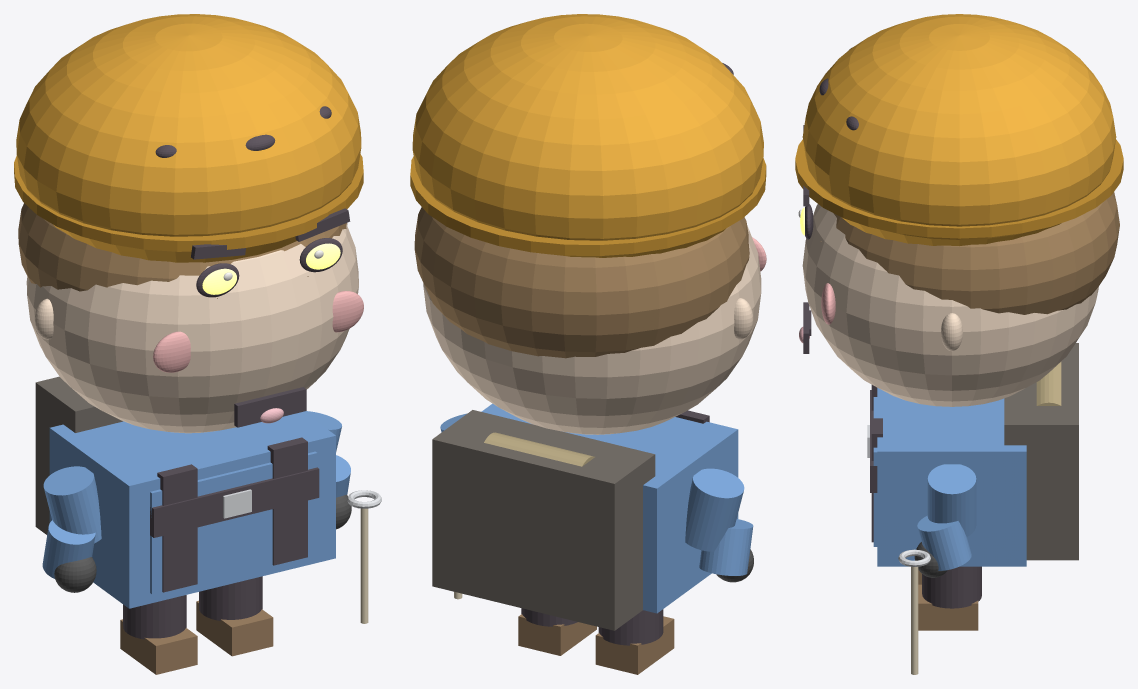
File: climber.glb
3 views of the same model, side by side, from view 1: azimuth 30°, elevation 25°; view 2: azimuth 150°, elevation 25°; view 3: azimuth 270°, elevation 25° (orthographic). The views are drawn at different scales.
Visible parts, largest first — view 1: Helmet, Head, Coat, HairCap, CoatFront, HelmetRim, ChestStrap, Backpack, PackStrap_L, PackStrap_R, UpperArm_L, Shoe_R (+15 smaller); view 2: Helmet, Backpack, HairCap, Head, Coat, HelmetRim, UpperArm_L, Shoe_L, Forearm_L, Shoe_R, Leg_L, Bedroll (+2 smaller); view 3: Helmet, Head, Coat, HairCap, Backpack, HelmetRim, UpperArm_R, Leg_R, Forearm_R, Shoe_R, Bedroll, Rope (+3 smaller).
Boxes of the visible parts, x1=… form: Helmet: x1=16, y1=14, x2=361, y2=262; Head: x1=26, y1=224, x2=358, y2=433; Coat: x1=49, y1=411, x2=335, y2=608; HairCap: x1=18, y1=203, x2=347, y2=291; CoatFront: x1=150, y1=451, x2=317, y2=594; HelmetRim: x1=14, y1=154, x2=363, y2=251; ChestStrap: x1=150, y1=467, x2=319, y2=537; Backpack: x1=35, y1=376, x2=122, y2=534; PackStrap_L: x1=157, y1=464, x2=197, y2=592; PackStrap_R: x1=267, y1=437, x2=307, y2=565; UpperArm_L: x1=43, y1=466, x2=101, y2=543; Shoe_R: x1=196, y1=600, x2=273, y2=656; Helmet: x1=412, y1=14, x2=763, y2=257; Backpack: x1=432, y1=410, x2=655, y2=630; HairCap: x1=414, y1=207, x2=749, y2=358; Head: x1=423, y1=226, x2=761, y2=434; Coat: x1=481, y1=403, x2=738, y2=613; HelmetRim: x1=410, y1=156, x2=766, y2=255; UpperArm_L: x1=685, y1=468, x2=744, y2=551; Shoe_L: x1=595, y1=616, x2=674, y2=674; Forearm_L: x1=699, y1=519, x2=753, y2=575; Shoe_R: x1=518, y1=614, x2=596, y2=655; Leg_L: x1=598, y1=609, x2=663, y2=645; Bedroll: x1=484, y1=432, x2=594, y2=466; Helmet: x1=802, y1=14, x2=1116, y2=246; Head: x1=802, y1=204, x2=1098, y2=406; Coat: x1=877, y1=388, x2=1026, y2=566; HairCap: x1=834, y1=192, x2=1119, y2=314; Backpack: x1=1004, y1=343, x2=1078, y2=560; HelmetRim: x1=795, y1=139, x2=1123, y2=238; UpperArm_R: x1=927, y1=464, x2=976, y2=536; Leg_R: x1=922, y1=566, x2=981, y2=608; Forearm_R: x1=917, y1=515, x2=971, y2=570; Shoe_R: x1=918, y1=584, x2=978, y2=630; Bedroll: x1=1036, y1=362, x2=1061, y2=405; Rope: x1=911, y1=566, x2=918, y2=674.
Size of the model in its own units: 1.12 by 2 by 1.05.
